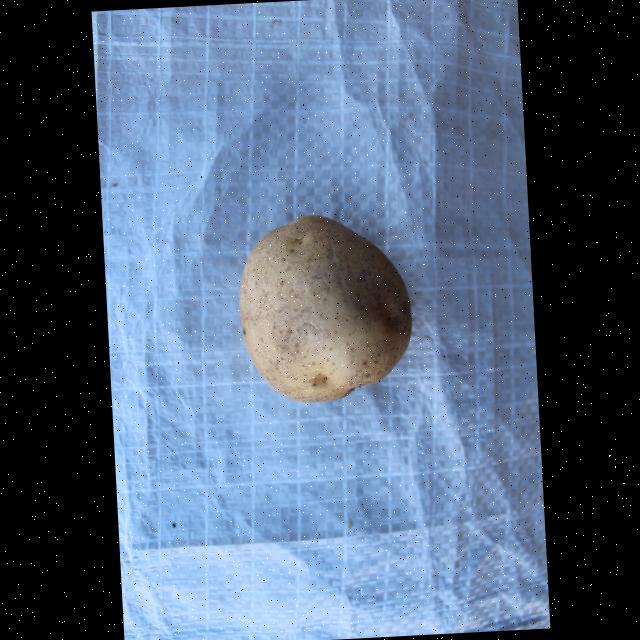Diseased-fungal potato: (232, 210, 419, 408)
